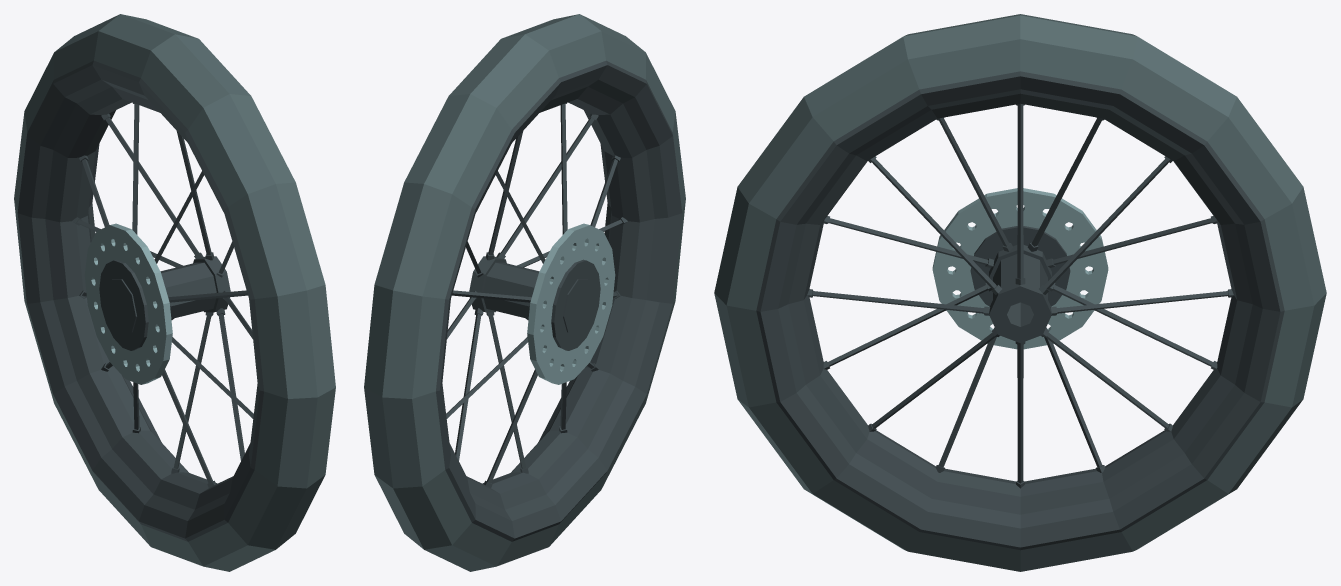
File: backWheel.fbx
3 renders of one model, left to right at view 1: azimuth 30°, elevation 25°; view 2: azimuth 150°, elevation 25°; view 3: azimuth 270°, elevation 25°, orthographic. The views are drawn at different scales.
Parts seen in each view (by area): view 1: 0後輪合併; view 2: 0後輪合併; view 3: 0後輪合併.
Part boxes in pixels (bbox=[...]): 0後輪合併: bbox=[14, 14, 335, 571]; 0後輪合併: bbox=[364, 14, 685, 571]; 0後輪合併: bbox=[714, 14, 1326, 571].
Bounding box in the file's own units: 12.72 × 66 × 66.
